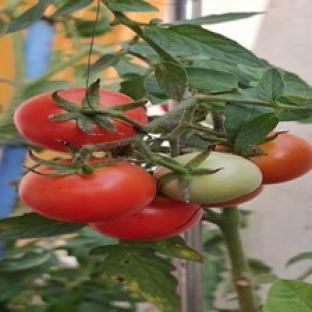Tomato: (19, 162, 155, 222), (14, 92, 136, 150), (90, 197, 201, 240), (189, 152, 261, 204), (250, 133, 311, 183), (205, 184, 264, 207)
